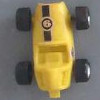carro: (17, 4, 89, 96)
